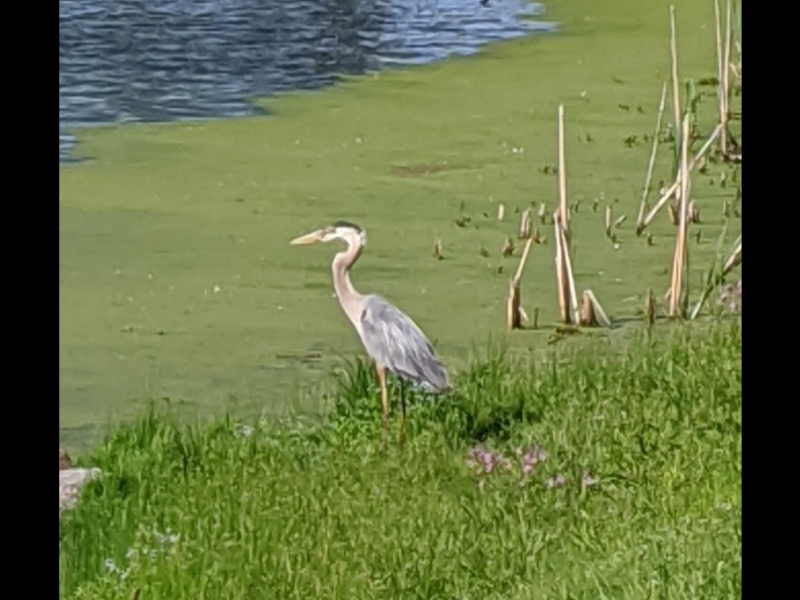heron: (286, 219, 456, 425)
